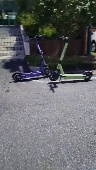beam: (10, 34, 53, 81)
gcooter: (48, 35, 96, 82)
